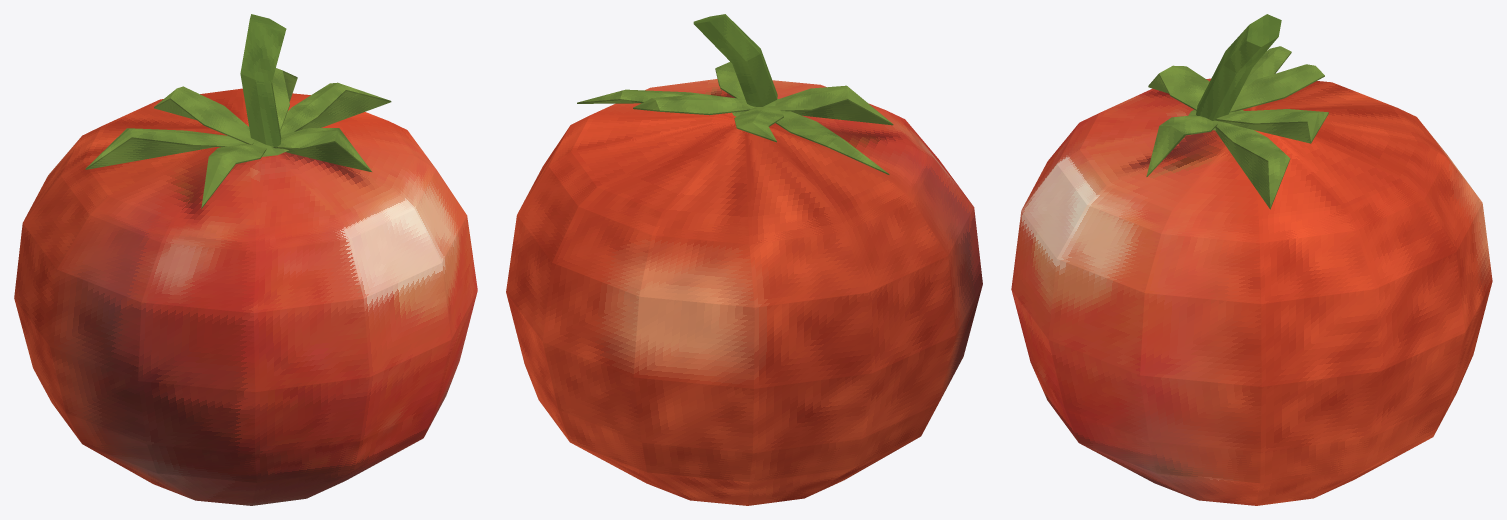
Rendered from tomato-nav.glb.
3 renders of one model, left to right at view 1: azimuth 30°, elevation 25°; view 2: azimuth 150°, elevation 25°; view 3: azimuth 270°, elevation 25°, orthographic. The views are drawn at different scales.
Parts seen in each view (by area): view 1: Tomato; view 2: Tomato; view 3: Tomato.
Part boxes in pixels (x1=…): Tomato: x1=14, y1=14, x2=477, y2=505; Tomato: x1=506, y1=14, x2=982, y2=505; Tomato: x1=1011, y1=14, x2=1492, y2=505.
Size of the model in its own units: 2.01 by 2.13 by 2.01.
Materials: 1 (1 with a texture image).
